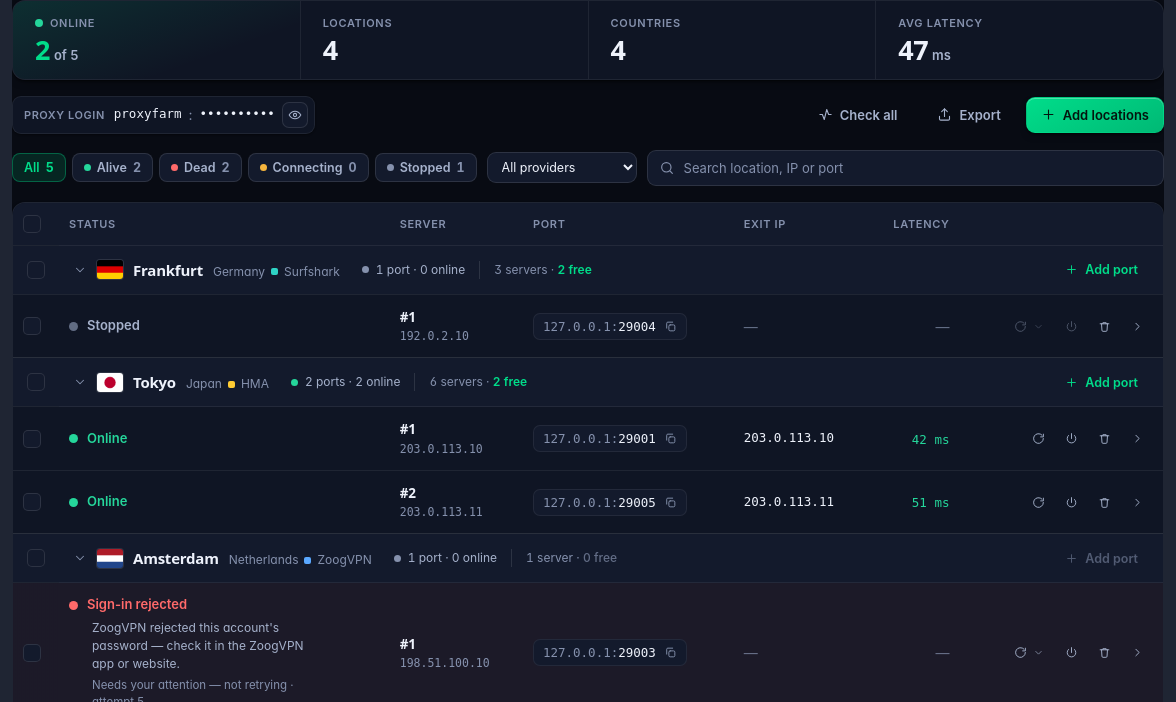
Test: MainScreen › + Add port adds a port on a free server; on a dynamic location it stays enabled (discover on add)
The width and height of the screenshot is (1176, 702).
Check: the row with test id "port-row-hma:JP-TOKYO#1" is shown, box [13, 407, 1163, 470]
Click the button with test id "add-port-hma:JP-TOKYO" at (1102, 382), box [1054, 367, 1149, 397]
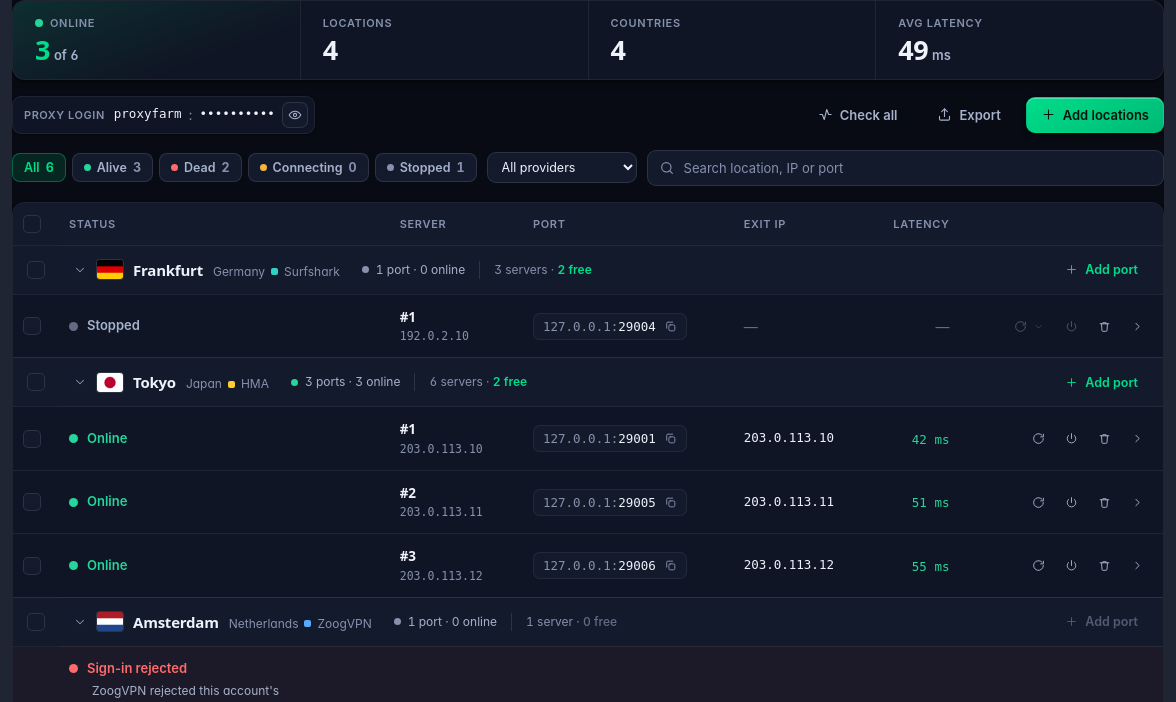
Check: the row with test id "port-row-hma:JP-TOKYO#3" is shown, box [13, 534, 1163, 597]
Check: the row with test id "port-row-hma:JP-TOKYO#3" shows "203.0.113.12", box [400, 569, 483, 583]
Click the button with test id "add-port-hma:JP-TOKYO" at (1102, 382), box [1054, 367, 1149, 397]
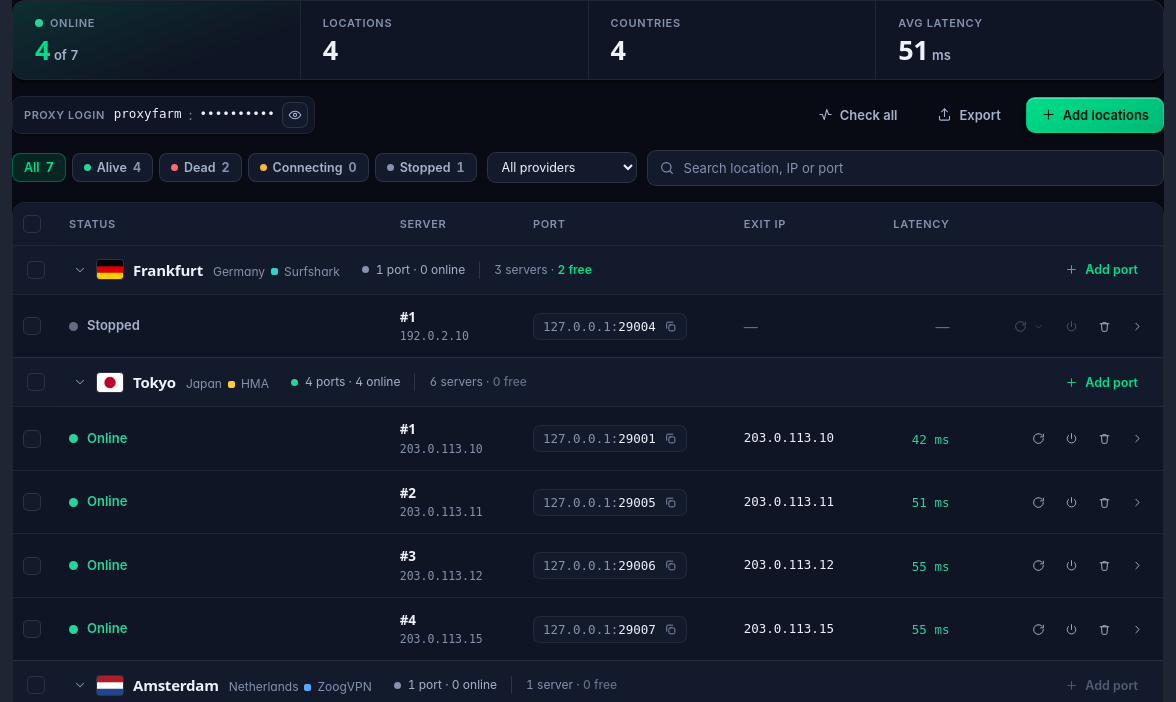
Check: the row with test id "port-row-hma:JP-TOKYO#4" is shown, box [13, 597, 1163, 661]
Check: the element with test id "group-stats-hma:JP-TOKYO" shows "0 free", box [493, 374, 527, 389]
